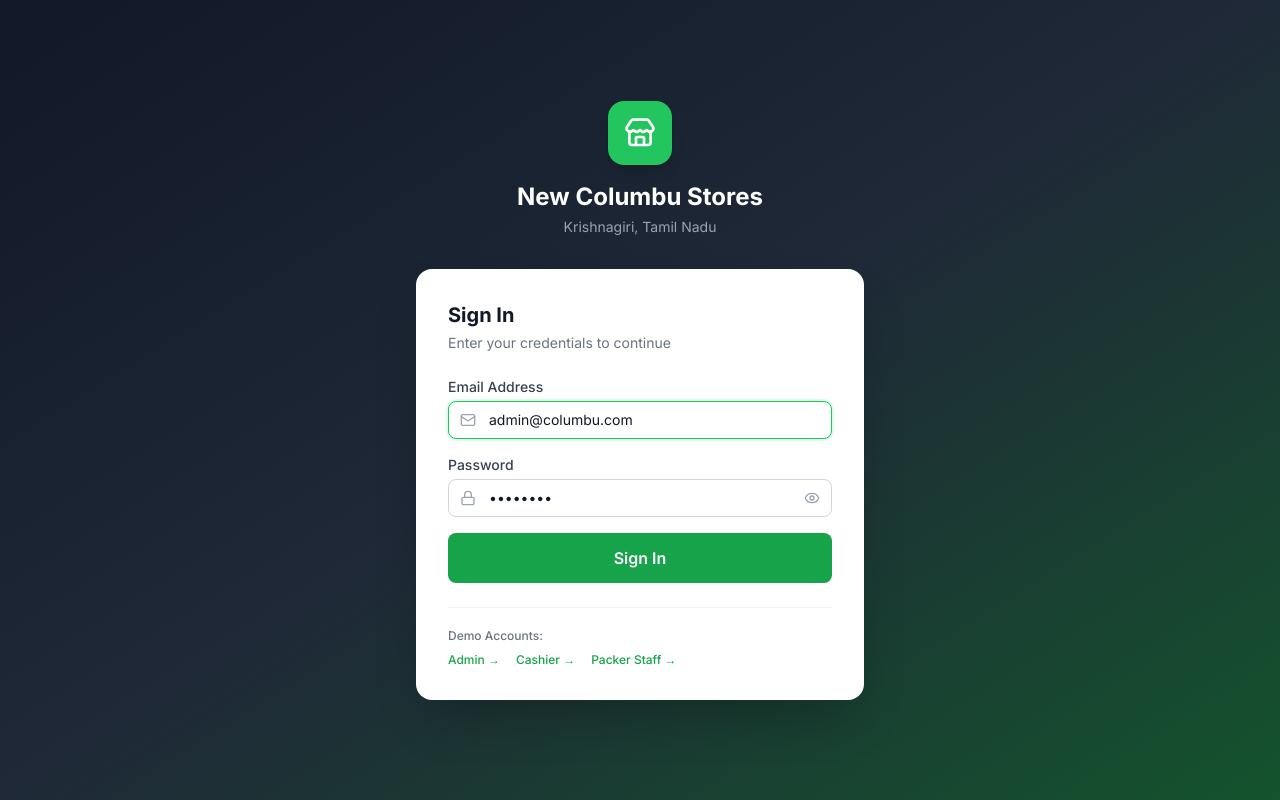
LoginPage › populates demo credentials on clicking demo account shortcuts including Packer Staff
This screenshot has width=1280, height=800.
Click the button "Cashier →" at (546, 660), box x1=516 y1=652 x2=575 y2=668
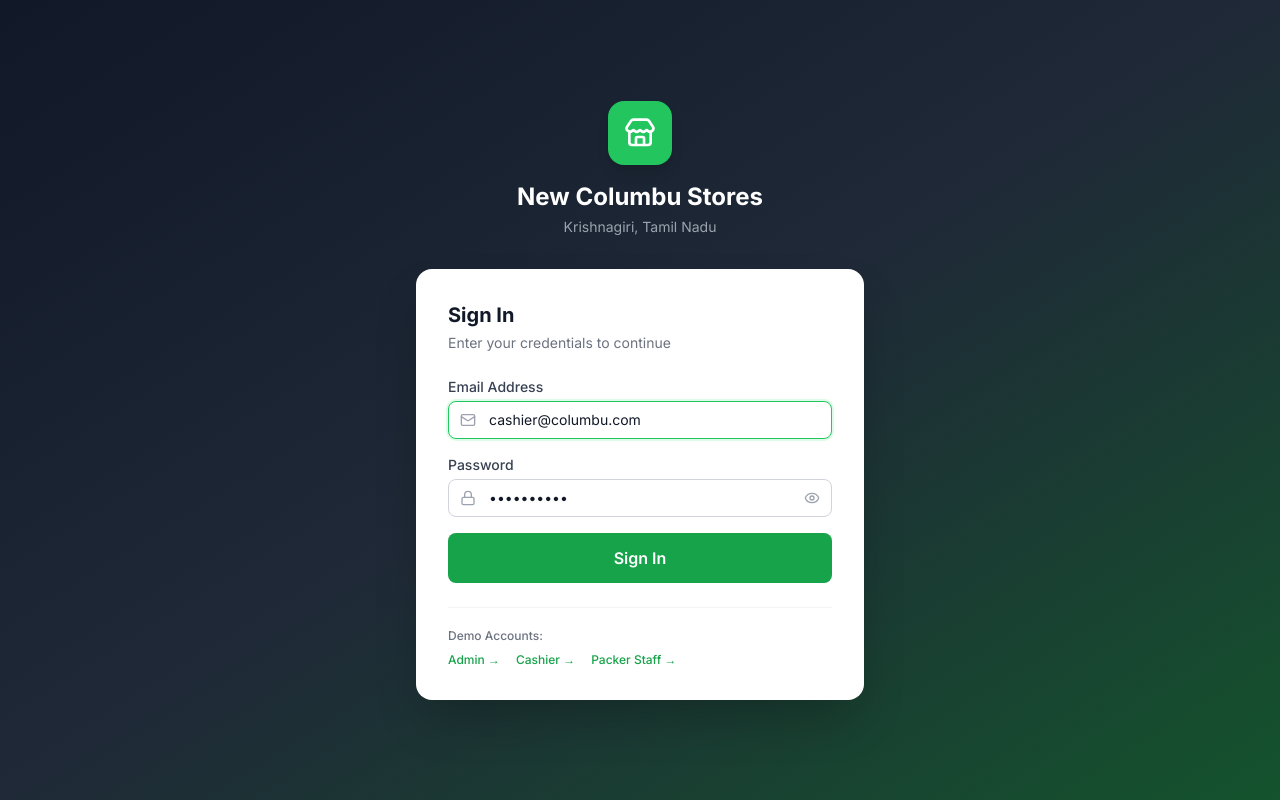
Expected: the field with placeholder "admin@columbu.com" holds "cashier@columbu.com", x1=448 y1=400 x2=832 y2=438
Click the button "Packer Staff →" at (634, 660), box x1=591 y1=652 x2=676 y2=668
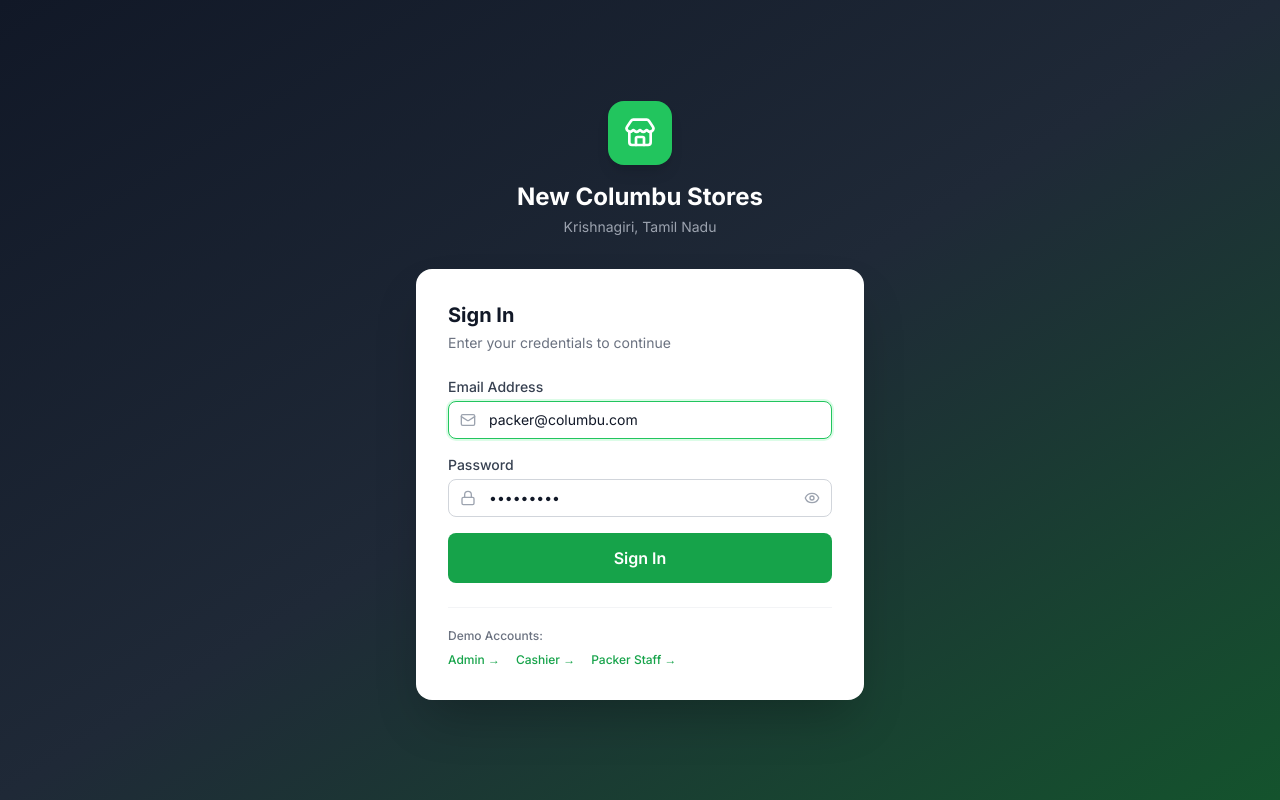
Expected: the field with placeholder "admin@columbu.com" holds "packer@columbu.com", x1=448 y1=400 x2=832 y2=438
